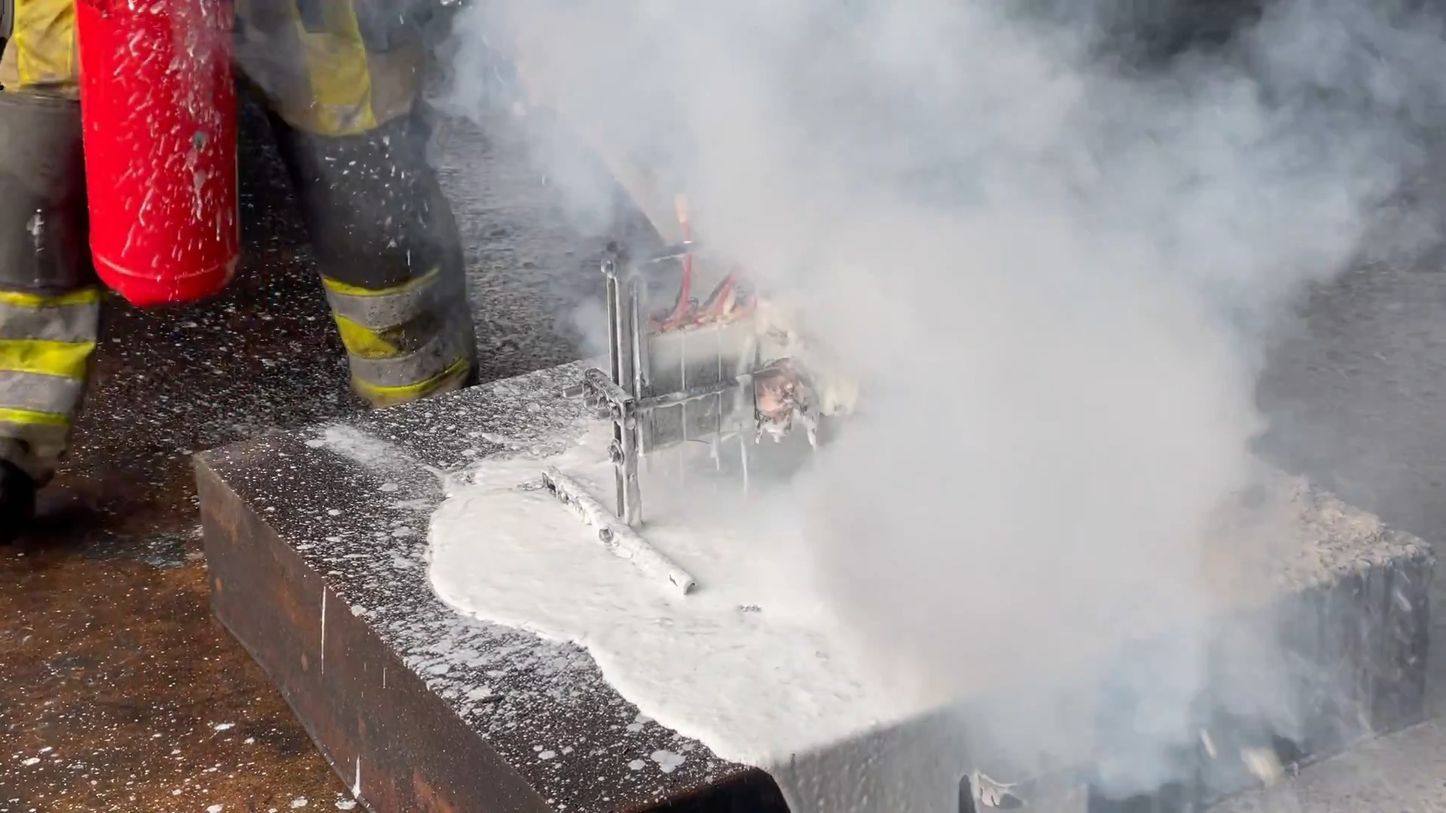fire: (703, 276, 752, 325), (756, 377, 798, 423)
smoke: (426, 0, 1446, 795)
